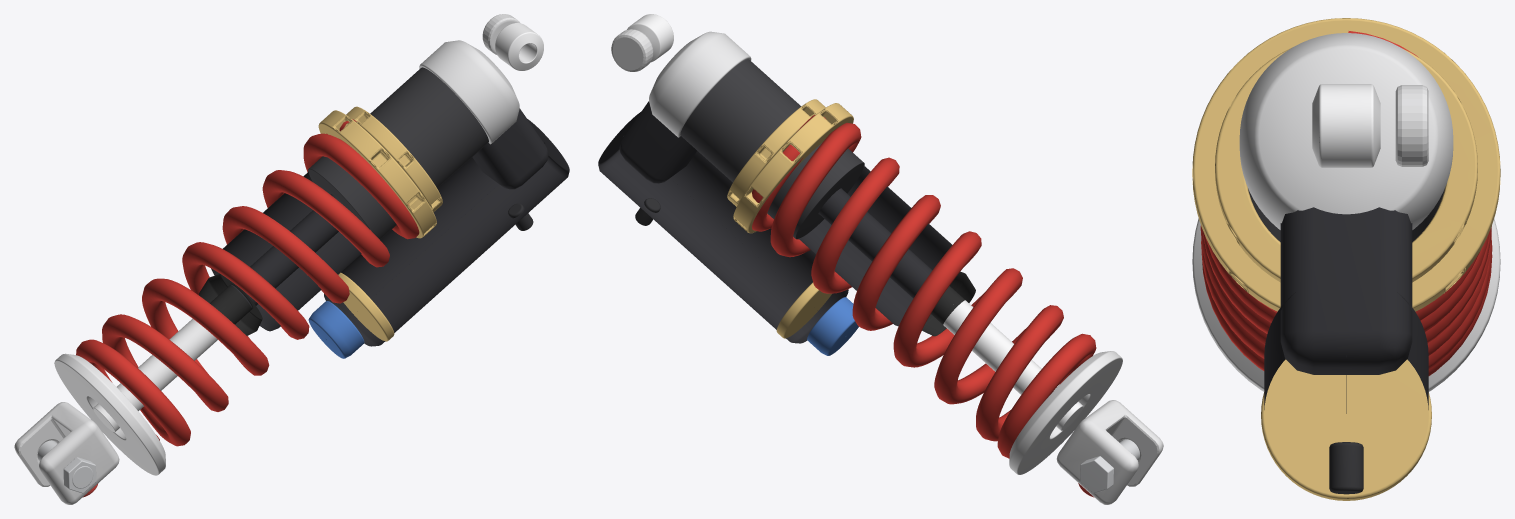
File: rear_shock.glb
3 views of the same model, side by side, from view 1: azimuth 30°, elevation 25°; view 2: azimuth 150°, elevation 25°; view 3: azimuth 270°, elevation 25° (orthographic). The views are drawn at different scales.
Visible parts, largest first — view 1: rear_shock__spring, rear_shock__reservoir, rear_shock__threaded_sleeve, rear_shock__damper_body, rear_shock__lower_clevis, rear_shock__lower_spring_seat, rear_shock__top_cap, rear_shock__preload_collar, rear_shock__shaft, rear_shock__lock_ring, rear_shock__bump_stop, rear_shock__compression_adjuster (+4 smaller); view 2: rear_shock__spring, rear_shock__reservoir, rear_shock__threaded_sleeve, rear_shock__damper_body, rear_shock__lower_clevis, rear_shock__lower_spring_seat, rear_shock__top_cap, rear_shock__preload_collar, rear_shock__shaft, rear_shock__lock_ring, rear_shock__compression_adjuster, rear_shock__top_eye (+4 smaller); view 3: rear_shock__top_cap, rear_shock__reservoir, rear_shock__reservoir_ring, rear_shock__preload_collar, rear_shock__lock_ring, rear_shock__spring, rear_shock__spherical_bearing, rear_shock__lower_spring_seat, rear_shock__top_eye, rear_shock__valve_cap, rear_shock__threaded_sleeve.
Boxes of the visible parts, left/top/right/bottom form: rear_shock__spring: left=76, top=119, right=419, bottom=446; rear_shock__reservoir: left=324, top=108, right=569, bottom=346; rear_shock__threaded_sleeve: left=308, top=67, right=488, bottom=239; rear_shock__damper_body: left=211, top=171, right=361, bottom=331; rear_shock__lower_clevis: left=14, top=402, right=119, bottom=504; rear_shock__lower_spring_seat: left=54, top=353, right=165, bottom=475; rear_shock__top_cap: left=419, top=40, right=519, bottom=144; rear_shock__preload_collar: left=318, top=110, right=436, bottom=238; rear_shock__shaft: left=93, top=318, right=217, bottom=432; rear_shock__lock_ring: left=346, top=106, right=442, bottom=212; rear_shock__bump_stop: left=199, top=274, right=262, bottom=335; rear_shock__compression_adjuster: left=308, top=301, right=364, bottom=358; rear_shock__spring: left=752, top=115, right=1096, bottom=458; rear_shock__reservoir: left=598, top=101, right=848, bottom=343; rear_shock__threaded_sleeve: left=680, top=59, right=864, bottom=239; rear_shock__damper_body: left=798, top=165, right=951, bottom=326; rear_shock__lower_clevis: left=1056, top=400, right=1163, bottom=504; rear_shock__lower_spring_seat: left=1009, top=351, right=1122, bottom=474; rear_shock__top_cap: left=649, top=31, right=751, bottom=137; rear_shock__preload_collar: left=733, top=103, right=853, bottom=233; rear_shock__shaft: left=943, top=300, right=1083, bottom=430; rear_shock__lock_ring: left=727, top=99, right=825, bottom=206; rear_shock__compression_adjuster: left=807, top=297, right=858, bottom=355; rear_shock__top_eye: left=611, top=29, right=653, bottom=71; rear_shock__top_cap: left=1239, top=33, right=1453, bottom=229; rear_shock__reservoir: left=1264, top=207, right=1428, bottom=413; rear_shock__reservoir_ring: left=1261, top=359, right=1431, bottom=500; rear_shock__preload_collar: left=1192, top=18, right=1500, bottom=311; rear_shock__lock_ring: left=1215, top=48, right=1477, bottom=282; rear_shock__spring: left=1200, top=31, right=1492, bottom=375; rear_shock__spherical_bearing: left=1312, top=84, right=1380, bottom=167; rear_shock__lower_spring_seat: left=1192, top=218, right=1500, bottom=391; rear_shock__top_eye: left=1395, top=85, right=1428, bottom=166; rear_shock__valve_cap: left=1329, top=442, right=1363, bottom=494; rear_shock__threaded_sleeve: left=1248, top=188, right=1444, bottom=241.
Size of the model in its own units: 29.98 by 19.33 by 7.5.
